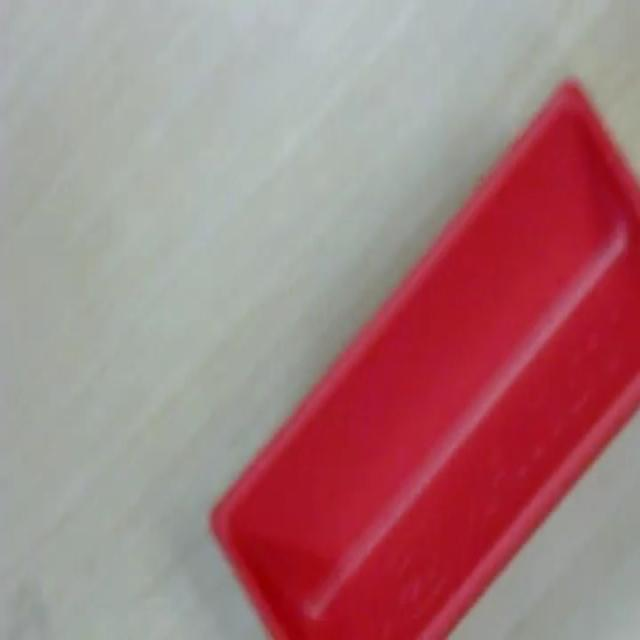red_block: (207, 75, 639, 637)
